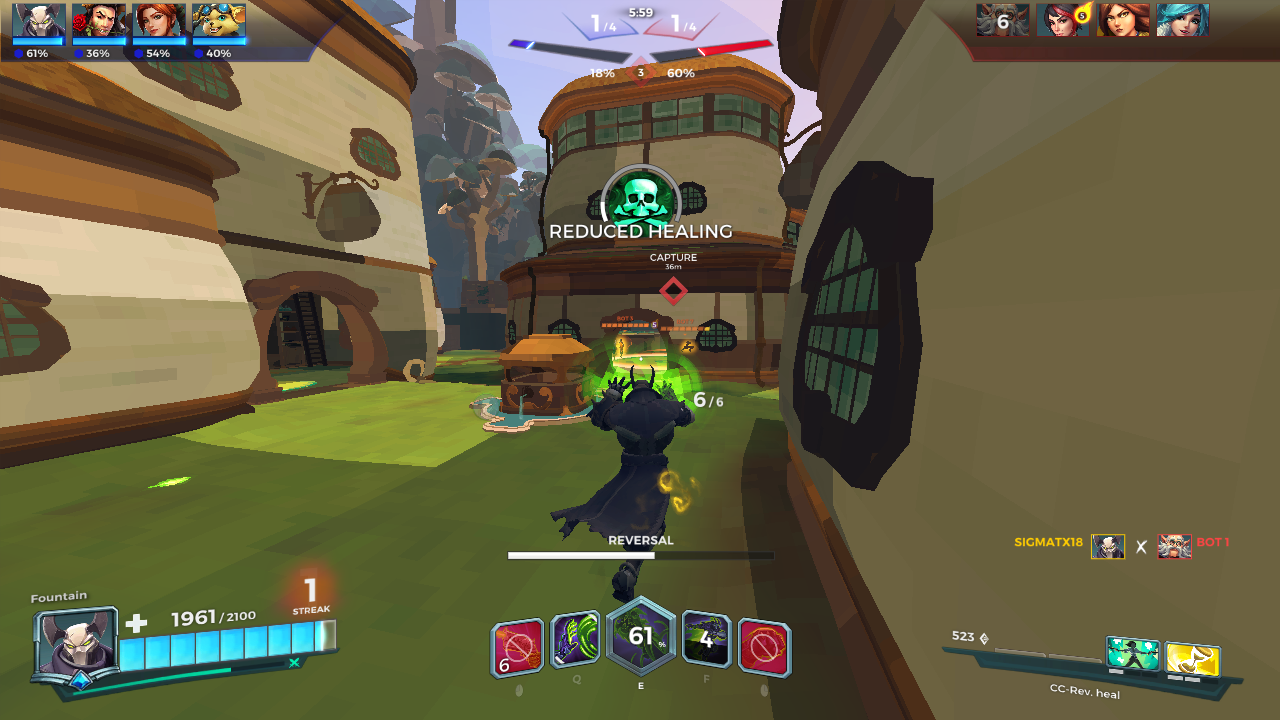model: (617, 338, 627, 365), (682, 336, 695, 352)
